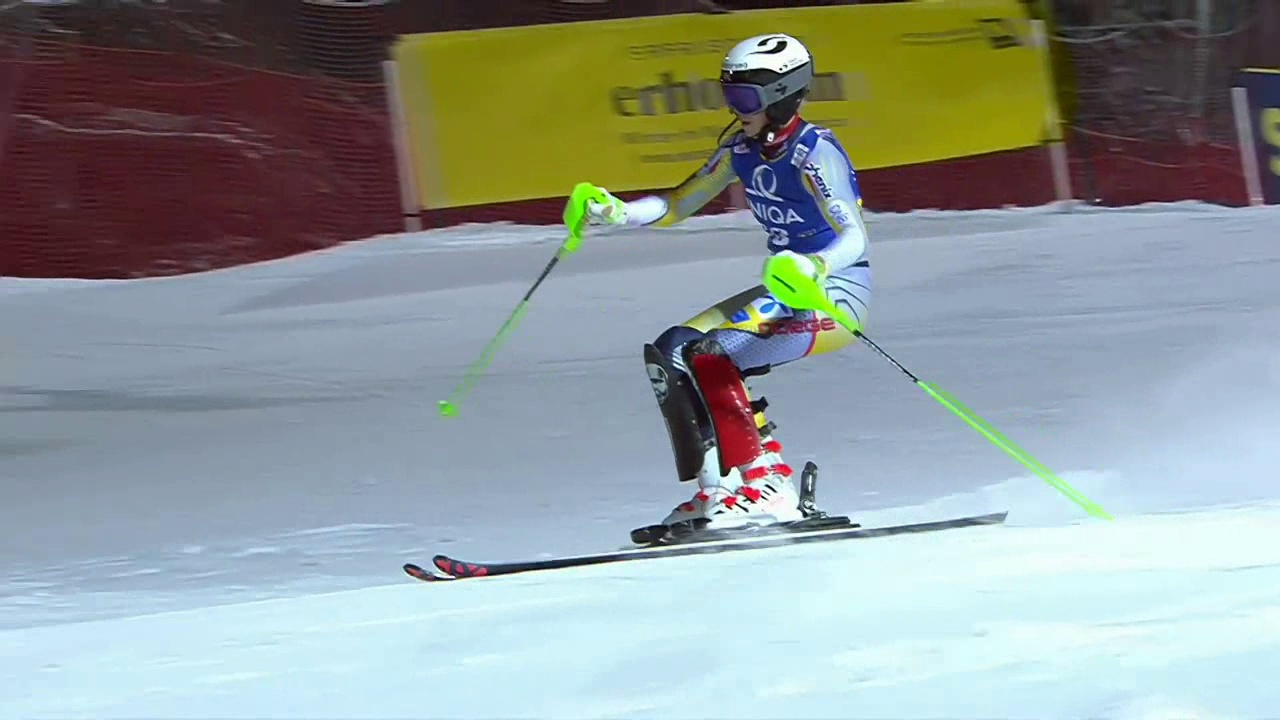kronenzeitung: (385, 5, 1129, 157)
uniqa: (739, 166, 802, 233)
